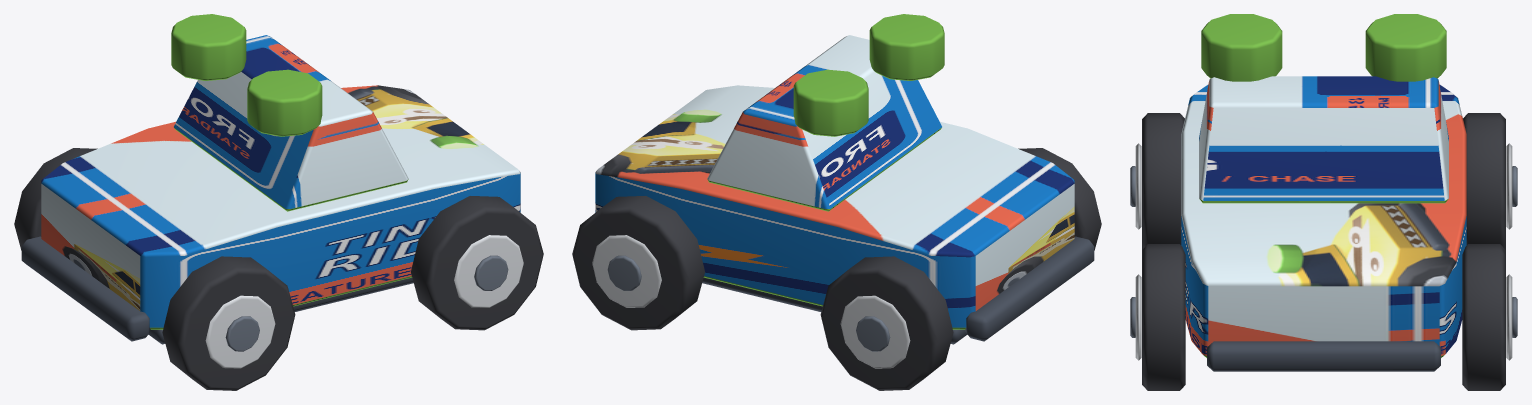
The picture shows the model from 3 angles, left to right: view 1: azimuth 30°, elevation 25°; view 2: azimuth 150°, elevation 25°; view 3: azimuth 270°, elevation 25°; orthographic projection. The views are drawn at different scales.
Parts seen in each view (by area): view 1: CR-04_connected_shell, CR-04_cabin, Tire.002, Tire, front bumper, eye housing.001, eye housing, Rim, Rim.002, Tire.001, underbody, Hub.002 (+1 smaller); view 2: CR-04_connected_shell, CR-04_cabin, Tire.003, Tire.001, front bumper, eye housing, eye housing.001, Rim.001, Rim.003, Tire, underbody, Hub.003 (+1 smaller); view 3: CR-04_connected_shell, CR-04_cabin, rear bumper, Tire.002, Tire.003, Tire, Tire.001, eye housing, eye housing.001, Rim, Rim.001, Rim.002 (+1 smaller).
Boxes of the visible parts, <box> form: CR-04_connected_shell: <box>41,85,520,329</box>; CR-04_cabin: <box>174,35,408,211</box>; Tire.002: <box>411,196,543,330</box>; Tire: <box>162,256,295,390</box>; front bumper: <box>21,236,150,341</box>; eye housing.001: <box>171,14,246,80</box>; eye housing: <box>247,69,322,136</box>; Rim: <box>205,295,275,368</box>; Rim.002: <box>454,235,523,307</box>; Tire.001: <box>14,148,97,250</box>; underbody: <box>148,277,413,344</box>; Hub.002: <box>474,255,508,290</box>; CR-04_connected_shell: <box>595,85,1074,329</box>; CR-04_cabin: <box>707,35,941,211</box>; Tire.003: <box>572,196,704,330</box>; Tire.001: <box>820,256,953,390</box>; front bumper: <box>965,236,1094,341</box>; eye housing: <box>869,14,944,80</box>; eye housing.001: <box>793,69,868,136</box>; Rim.001: <box>840,295,910,368</box>; Rim.003: <box>592,235,661,307</box>; Tire: <box>1018,148,1101,250</box>; underbody: <box>702,277,967,344</box>; Hub.003: <box>607,255,641,290</box>; CR-04_connected_shell: <box>1181,85,1466,357</box>; CR-04_cabin: <box>1199,76,1448,203</box>; rear bumper: <box>1207,341,1440,371</box>; Tire.002: <box>1142,244,1185,390</box>; Tire.003: <box>1462,244,1505,390</box>; Tire: <box>1142,113,1184,249</box>; Tire.001: <box>1463,113,1505,249</box>; eye housing: <box>1201,14,1282,81</box>; eye housing.001: <box>1365,14,1446,81</box>; Rim: <box>1135,143,1141,229</box>; Rim.001: <box>1506,143,1512,229</box>; Rim.002: <box>1135,274,1141,360</box>.
Bounding box in the file's own units: 303 × 180 × 231.
